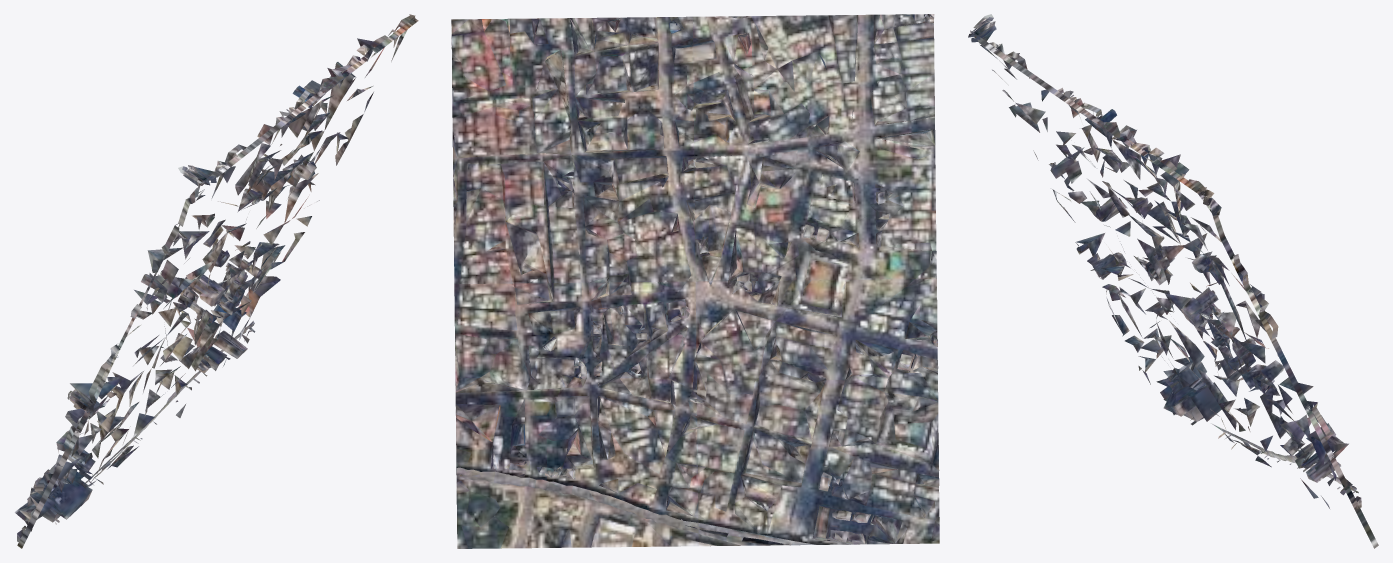
3 views of the same model, side by side, from view 1: azimuth 30°, elevation 25°; view 2: azimuth 150°, elevation 25°; view 3: azimuth 270°, elevation 25° (orthographic). The views are drawn at different scales.
Bounding box in the file's own units: 1224 × 1143 × 1025.
1 material, 1 textured.
